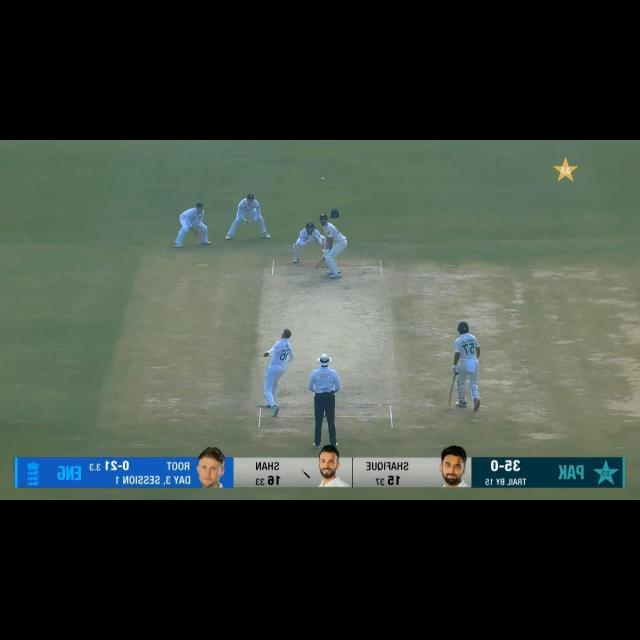bat: (446, 383, 455, 410), (314, 258, 326, 270)
toe: (446, 404, 453, 411), (313, 264, 319, 270)
